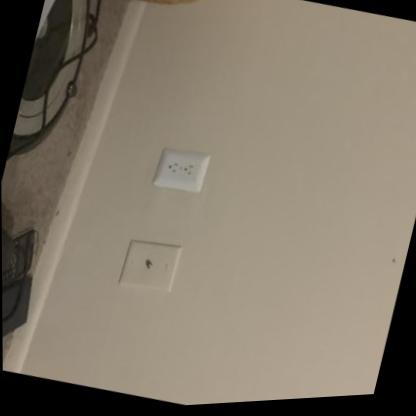OUTLET: (154, 143, 211, 195)
